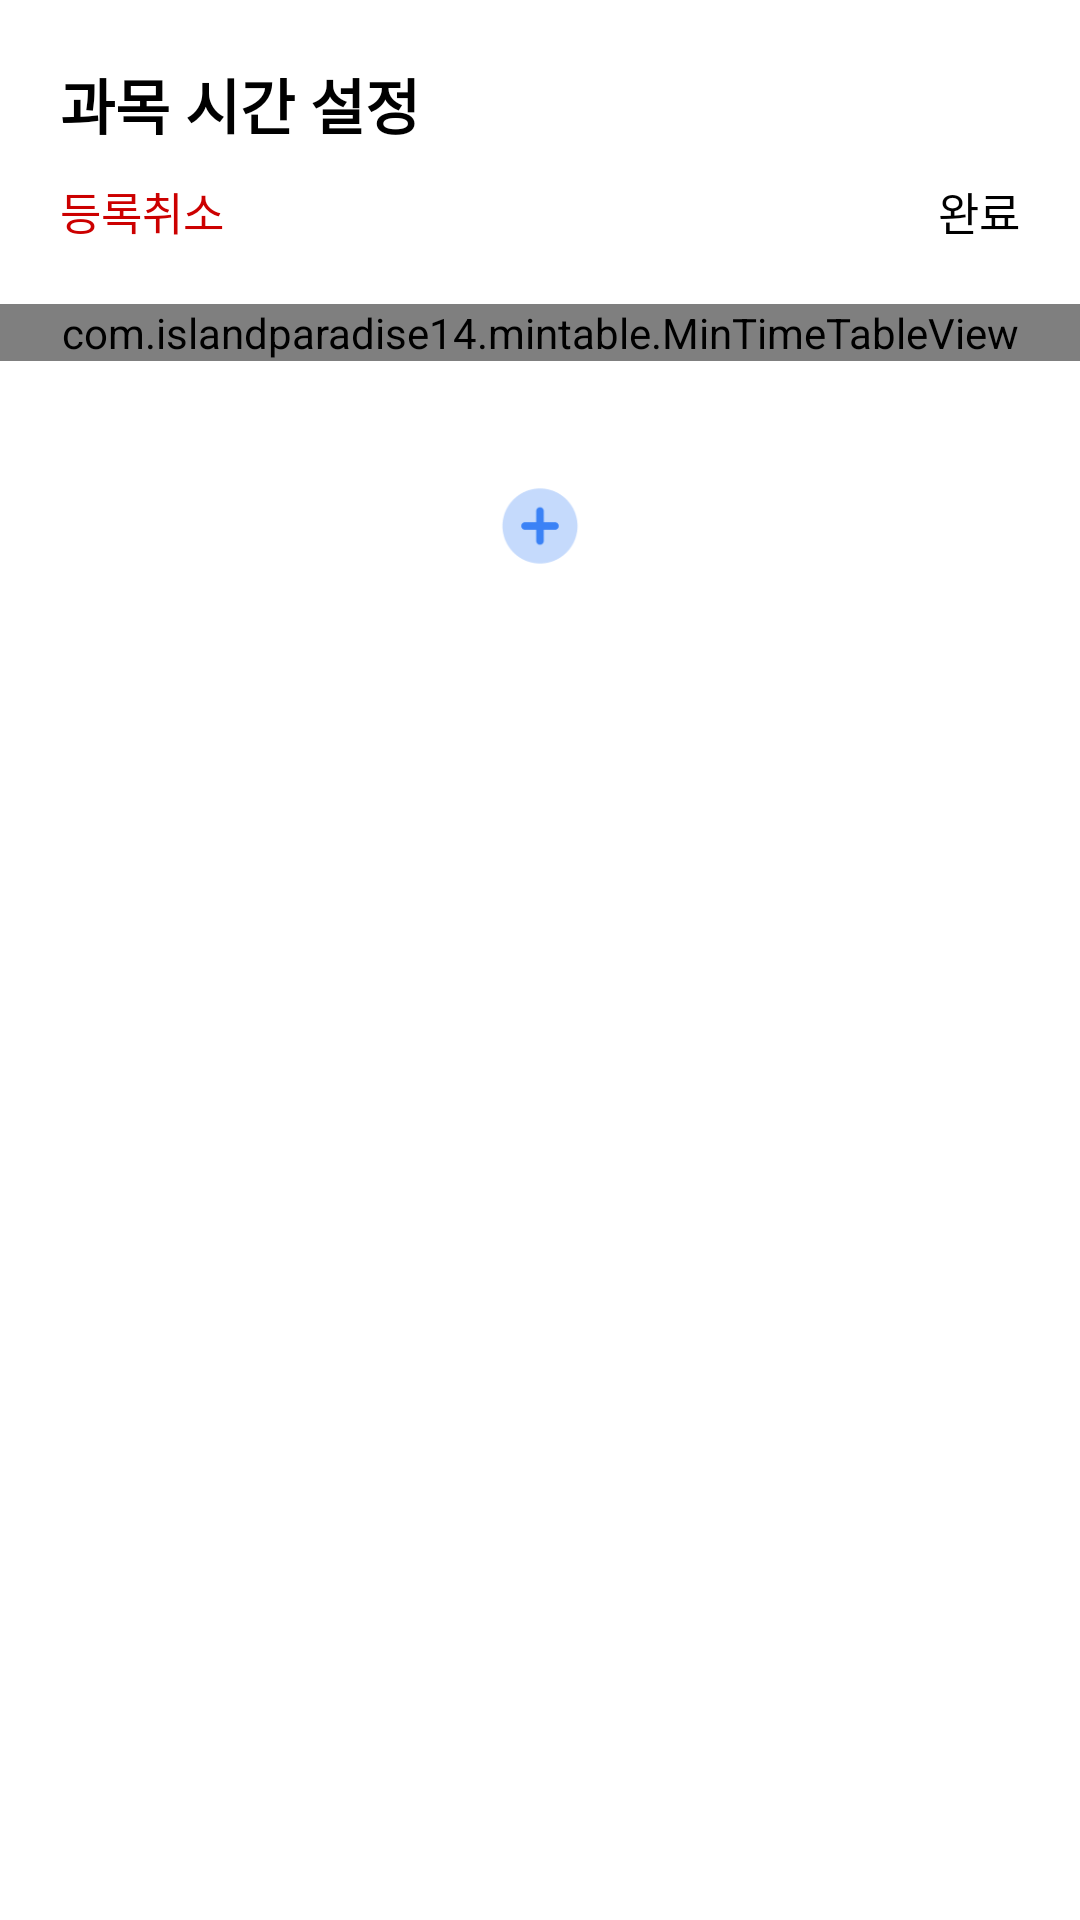

Icon click points for this 1080*1920 phone screenshot, format point (x, y):
lecture time add: point (540, 526)
